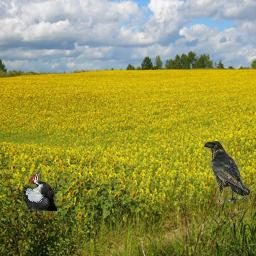Crow: (204, 141, 250, 203)
Woodpecker: (23, 168, 57, 211)
